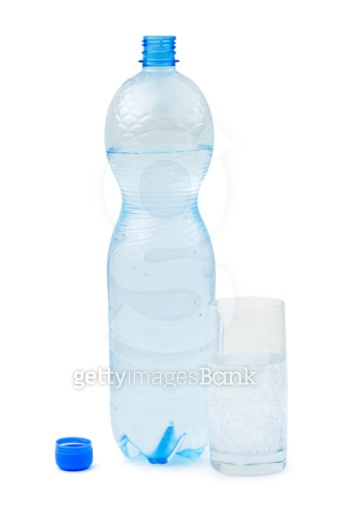glass of water: (86, 133, 242, 460), (210, 298, 292, 470)
